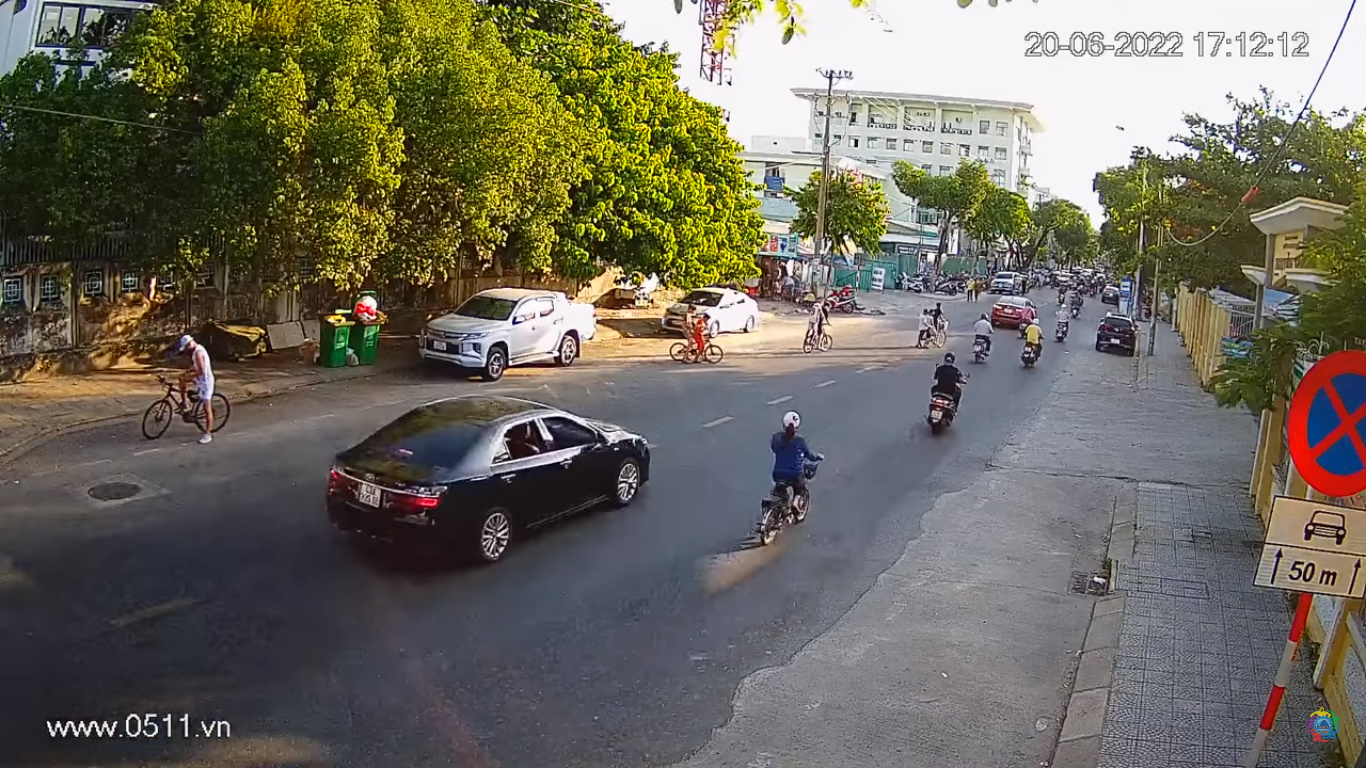car: (320, 390, 652, 559)
